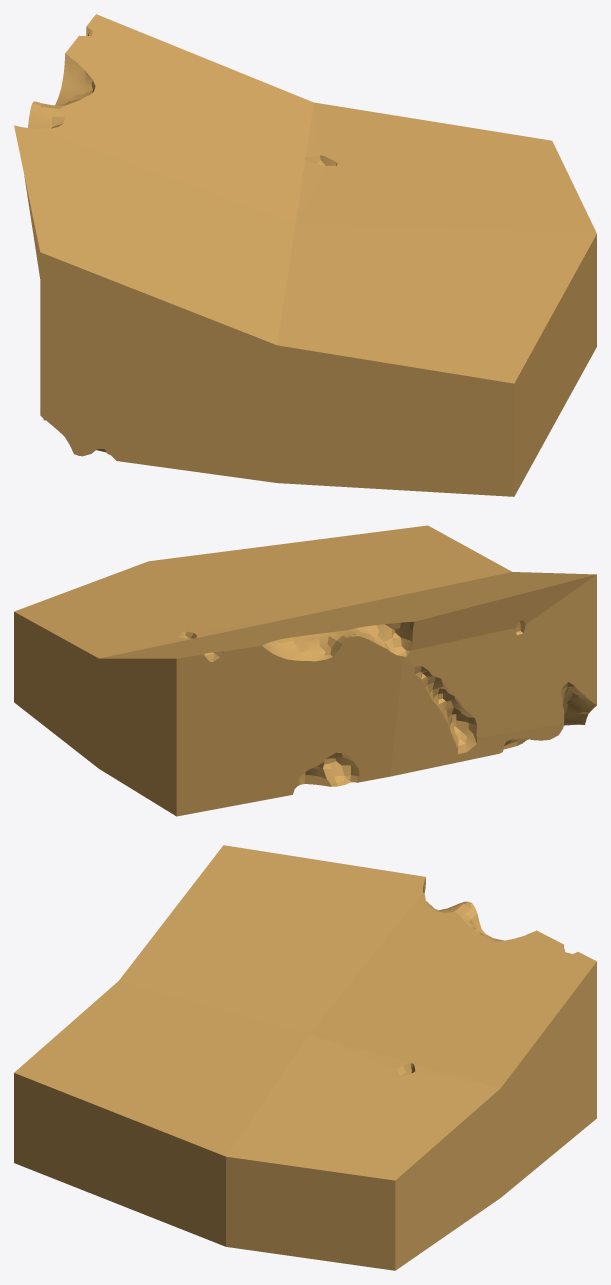
File: Ramp.glb
3 views of the same model, one above another, from view 1: azimuth 30°, elevation 25°; view 2: azimuth 150°, elevation 25°; view 3: azimuth 270°, elevation 25° (orthographic). The views are drawn at different scales.
Visible parts, largest first — view 1: Ramp; view 2: Ramp; view 3: Ramp.
Part boxes in pixels (<box>): Ramp: <box>14,14,596,496</box>; Ramp: <box>14,525,596,816</box>; Ramp: <box>14,845,596,1270</box>.
Bounding box in the file's own units: 9.99 × 3.72 × 10.22.
